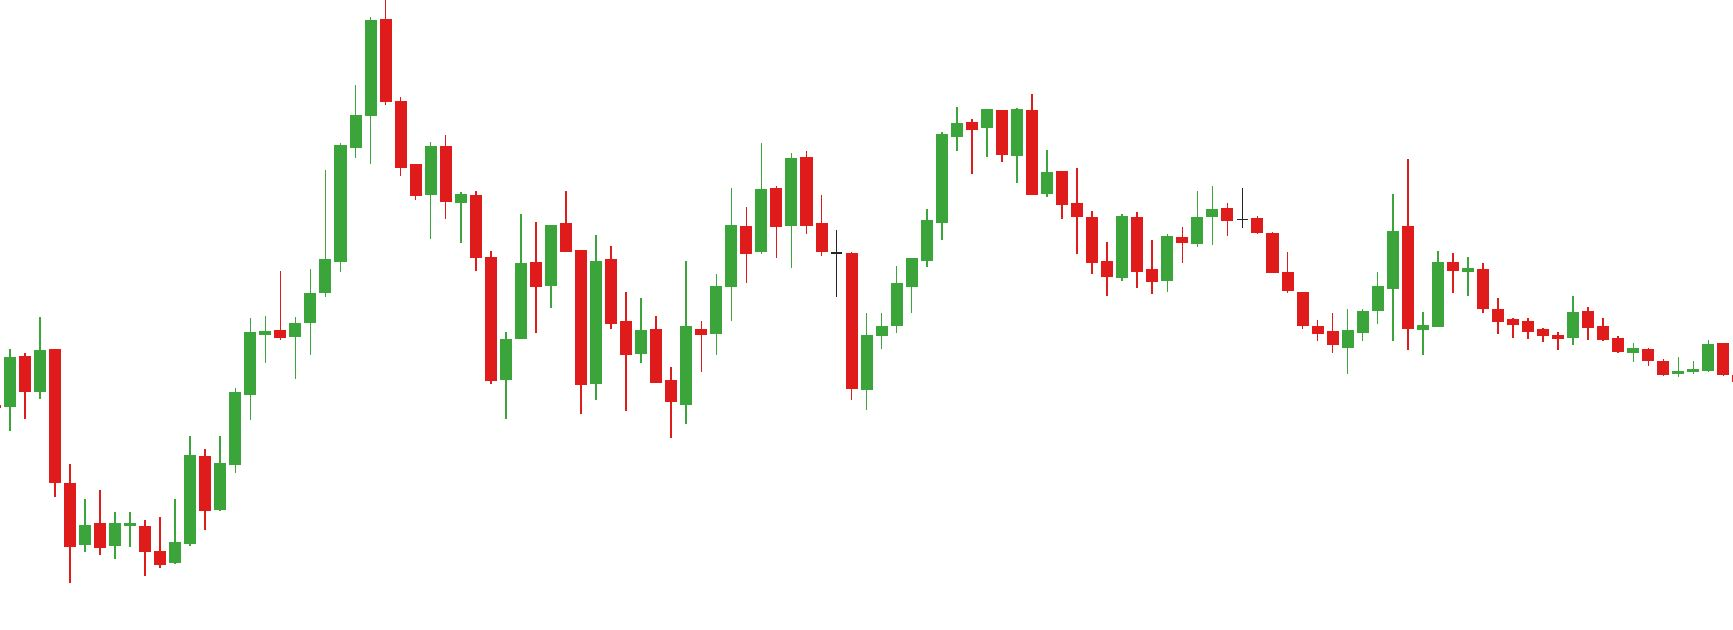sell: (752, 106, 980, 260)
